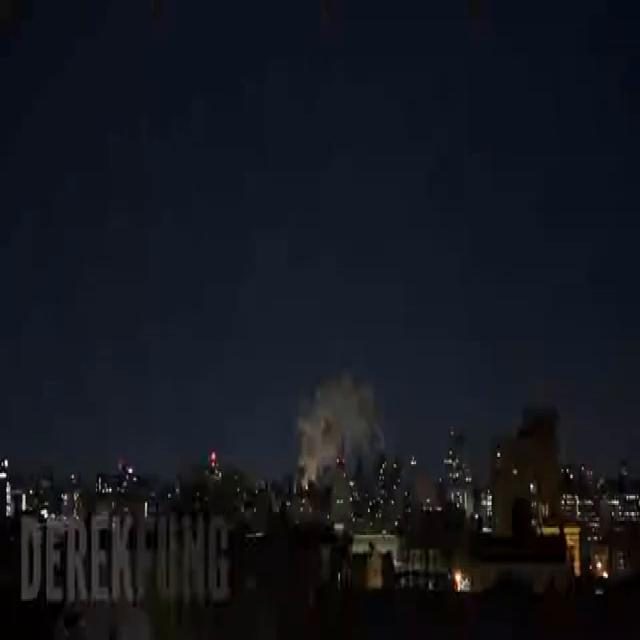smoke: (295, 372, 384, 491)
